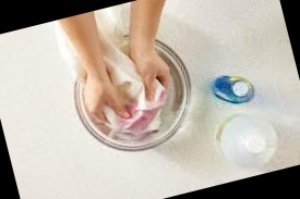wine: (109, 84, 169, 140)
